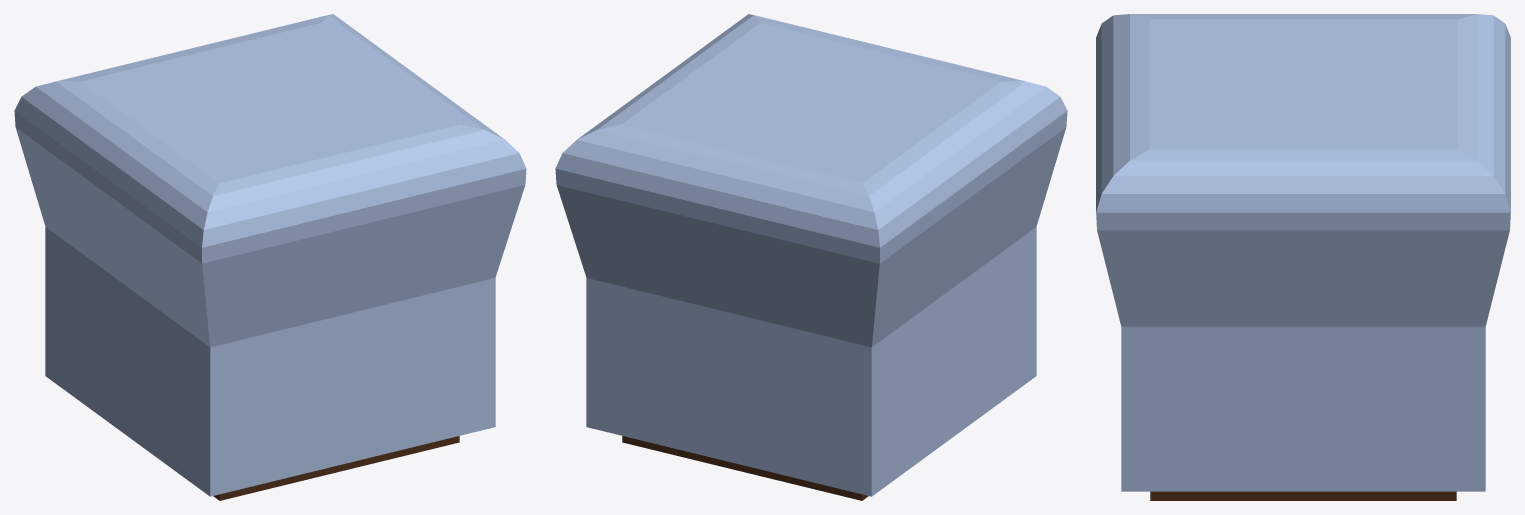
File: sofa.glb
3 renders of one model, left to right at view 1: azimuth 30°, elevation 25°; view 2: azimuth 150°, elevation 25°; view 3: azimuth 270°, elevation 25°, orthographic. The views are drawn at different scales.
Visible parts, largest first — view 1: Cube; view 2: Cube; view 3: Cube.
Part boxes in pixels (<box>): Cube: <box>14,14,526,500</box>; Cube: <box>555,14,1067,500</box>; Cube: <box>1096,14,1510,500</box>.
Size of the model in its own units: 2.28 by 2.13 by 2.28.
